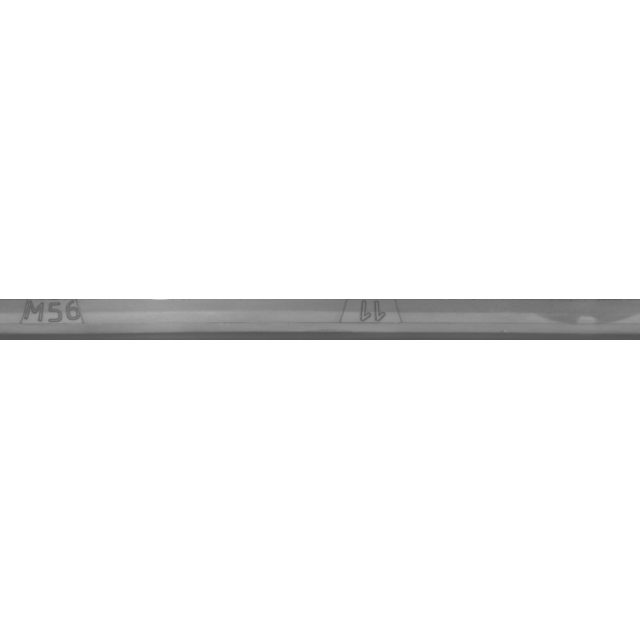mohao: (0, 270, 143, 370)
xuehao: (272, 270, 472, 370)
